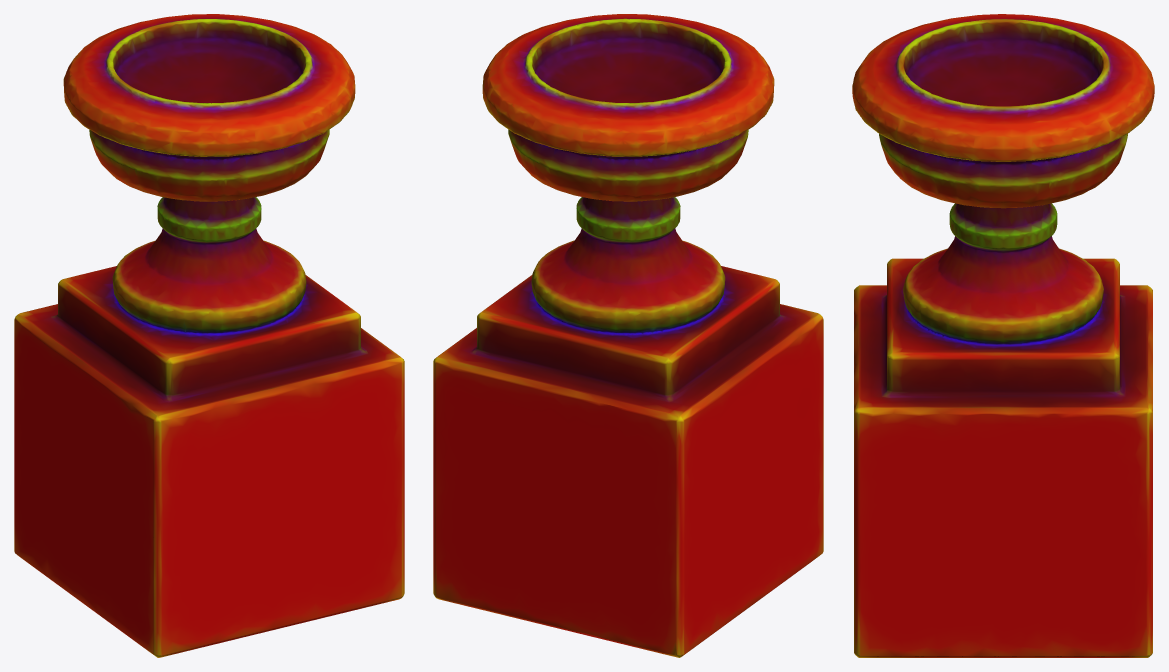
Rendered from FlowerPot.fbx.
The picture shows the model from 3 angles, left to right: view 1: azimuth 30°, elevation 25°; view 2: azimuth 150°, elevation 25°; view 3: azimuth 270°, elevation 25°; orthographic projection. The views are drawn at different scales.
Parts seen in each view (by area): view 1: transform1; view 2: transform1; view 3: transform1.
Part boxes in pixels (x1,y1,x2,y2): transform1: [14, 14, 404, 657]; transform1: [433, 14, 823, 657]; transform1: [852, 14, 1154, 657].
Bounding box in the file's own units: 126 × 126 × 246.
